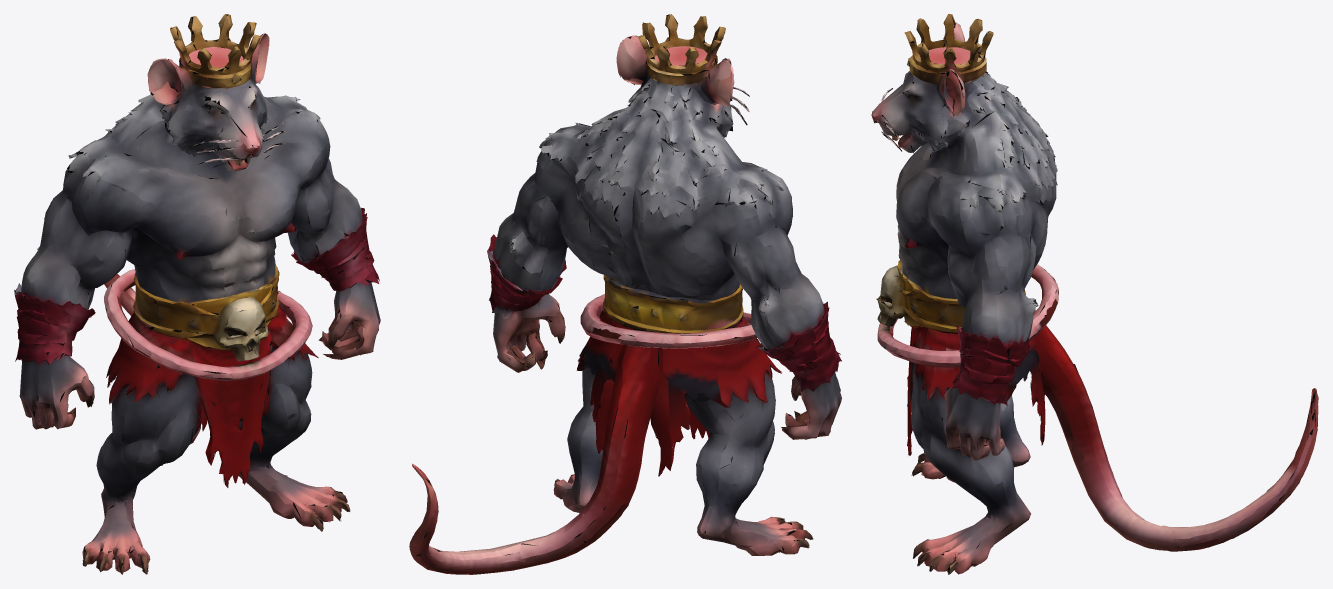
File: rat_king.fbx
The picture shows the model from 3 angles, left to right: view 1: azimuth 30°, elevation 25°; view 2: azimuth 150°, elevation 25°; view 3: azimuth 270°, elevation 25°; orthographic projection. The views are drawn at different scales.
Visible parts, largest first — view 1: geometry_0.001; view 2: geometry_0.001; view 3: geometry_0.001.
Part boxes in pixels (left/top/right/bottom): geometry_0.001: left=14, top=14, right=380, bottom=574; geometry_0.001: left=409, top=14, right=841, bottom=574; geometry_0.001: left=871, top=14, right=1318, bottom=574.
Size of the model in its own units: 72.73 by 100 by 83.31.
1 material, 1 textured.
